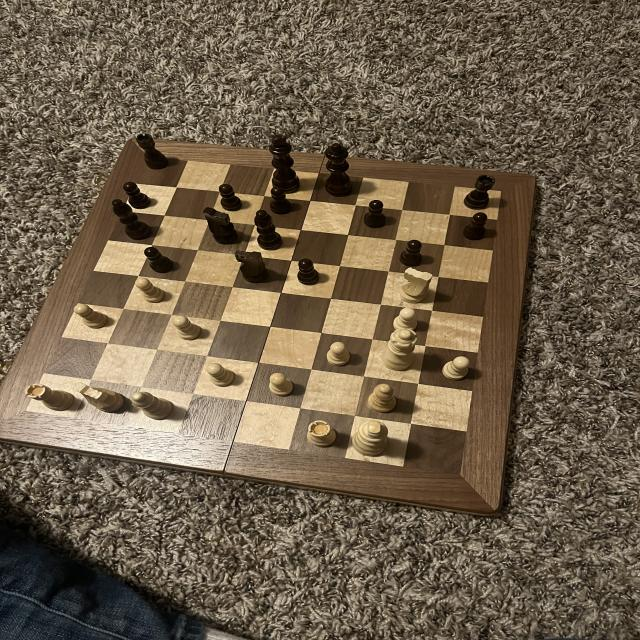bishop: (111, 197, 155, 242), (252, 208, 289, 252)
black-bishop: (266, 133, 305, 196)
black-king: (200, 205, 240, 247), (232, 250, 274, 286)
black-knight: (142, 246, 178, 276), (213, 181, 247, 212), (460, 212, 492, 244), (398, 238, 429, 270), (121, 180, 153, 211), (360, 198, 390, 231), (294, 256, 324, 288)
black-pawn: (320, 142, 358, 198)
black-queen: (136, 132, 174, 174), (461, 173, 496, 210)
black-rook: (129, 390, 178, 425), (361, 382, 399, 416)
white-bishop: (347, 418, 395, 459)
white-king: (72, 380, 128, 414), (397, 265, 435, 306)
white-knight: (72, 303, 111, 330), (439, 354, 475, 382), (170, 314, 206, 342), (134, 277, 168, 303), (205, 361, 237, 388), (391, 305, 421, 333), (268, 371, 295, 398), (325, 342, 353, 368)
white-pawn: (381, 328, 420, 374)
white-queen: (24, 382, 78, 412), (304, 418, 340, 449)
